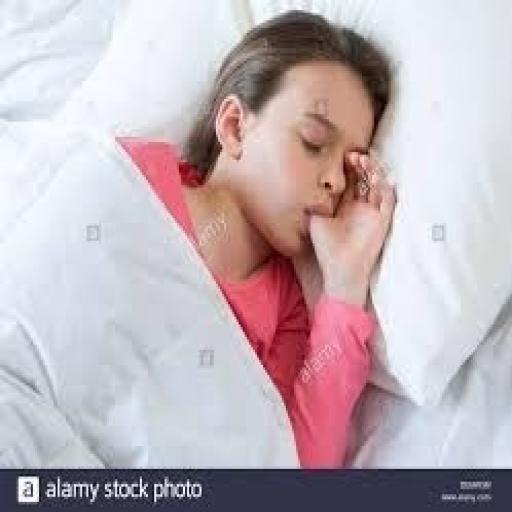sleeping: (0, 8, 401, 469)
